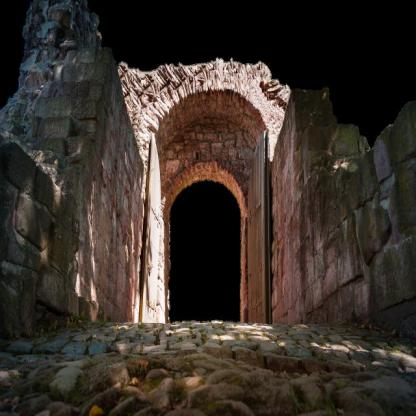door: (136, 116, 279, 336)
